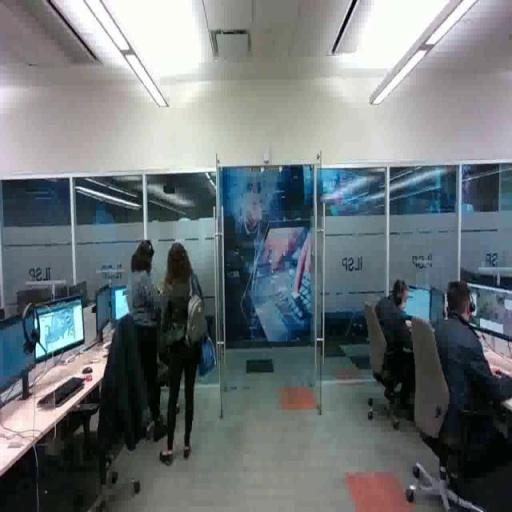person: (427, 283, 512, 494), (160, 239, 208, 464), (126, 238, 171, 444), (371, 279, 430, 398)
